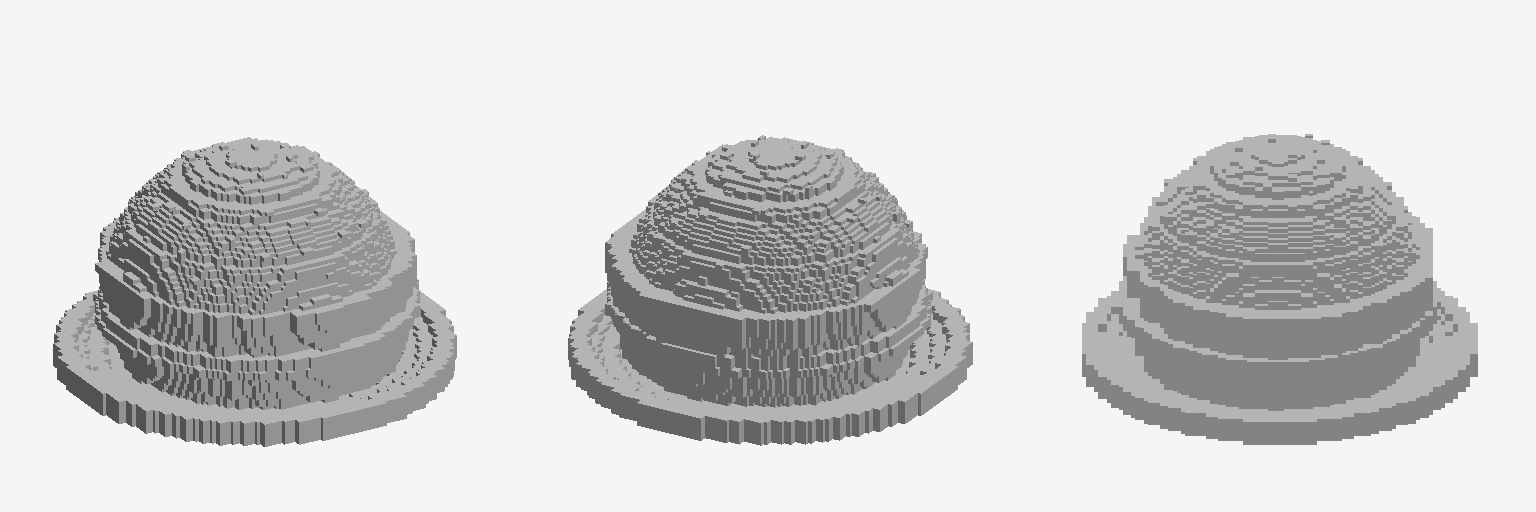
Rendered from HamburguesaLechugaTomate.obj.
3 renders of one model, left to right at view 1: azimuth 30°, elevation 25°; view 2: azimuth 150°, elevation 25°; view 3: azimuth 270°, elevation 25°, orthographic.
Visible parts, largest first — view 1: object 1; view 2: object 1; view 3: object 1.
Boxes of the visible parts, <box> form: object 1: <box>53,137,456,446</box>; object 1: <box>568,135,972,445</box>; object 1: <box>1082,134,1477,444</box>.
Size of the model in its own units: 9.6 by 5.6 by 9.6.